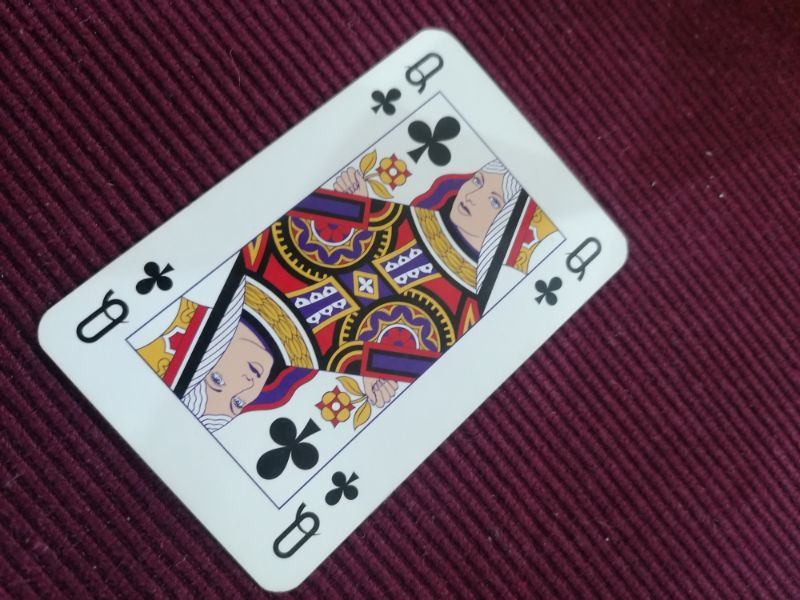Qc: (72, 257, 178, 349), (272, 469, 362, 561), (369, 47, 448, 118), (533, 235, 608, 308)
